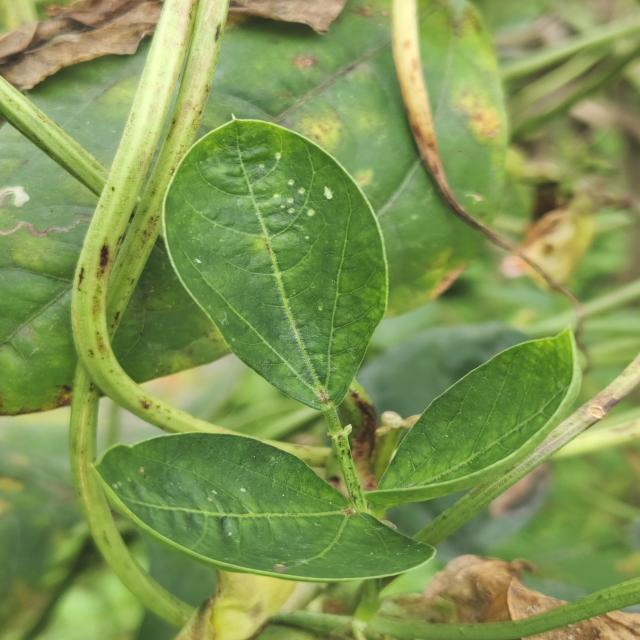10: (0, 78, 109, 198), (70, 360, 107, 548)
leaf-low: (96, 433, 435, 582), (366, 330, 638, 512)
sitaw-aphid-high: (163, 118, 388, 412)
sitaw-aphid-moderate: (392, 0, 585, 318)
sitaw-moderate: (71, 0, 198, 419), (164, 0, 229, 154), (141, 0, 198, 146)
